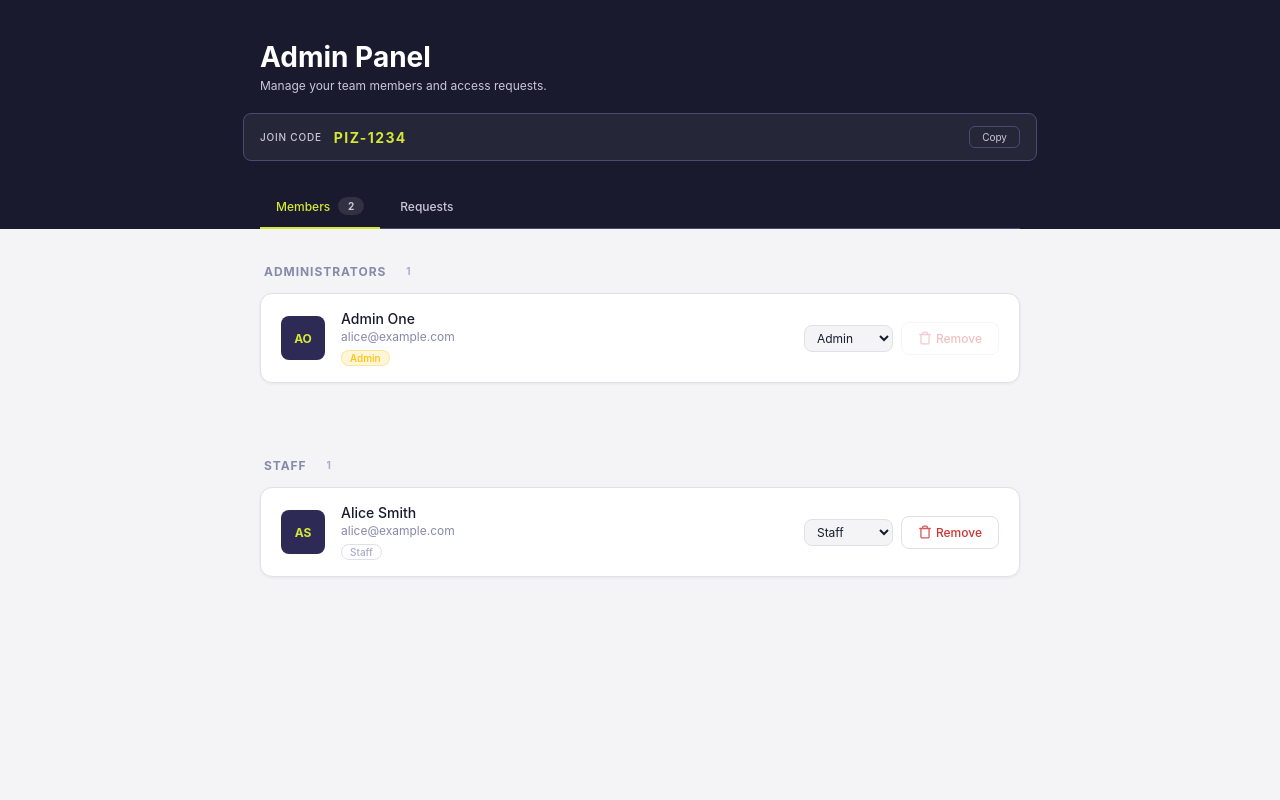
AdminPanel › members tab › removes member after confirmation dialog confirm
Click the button with class "action-btn--remove" in the row of "AS" at (950, 532), box [901,516,999,548]
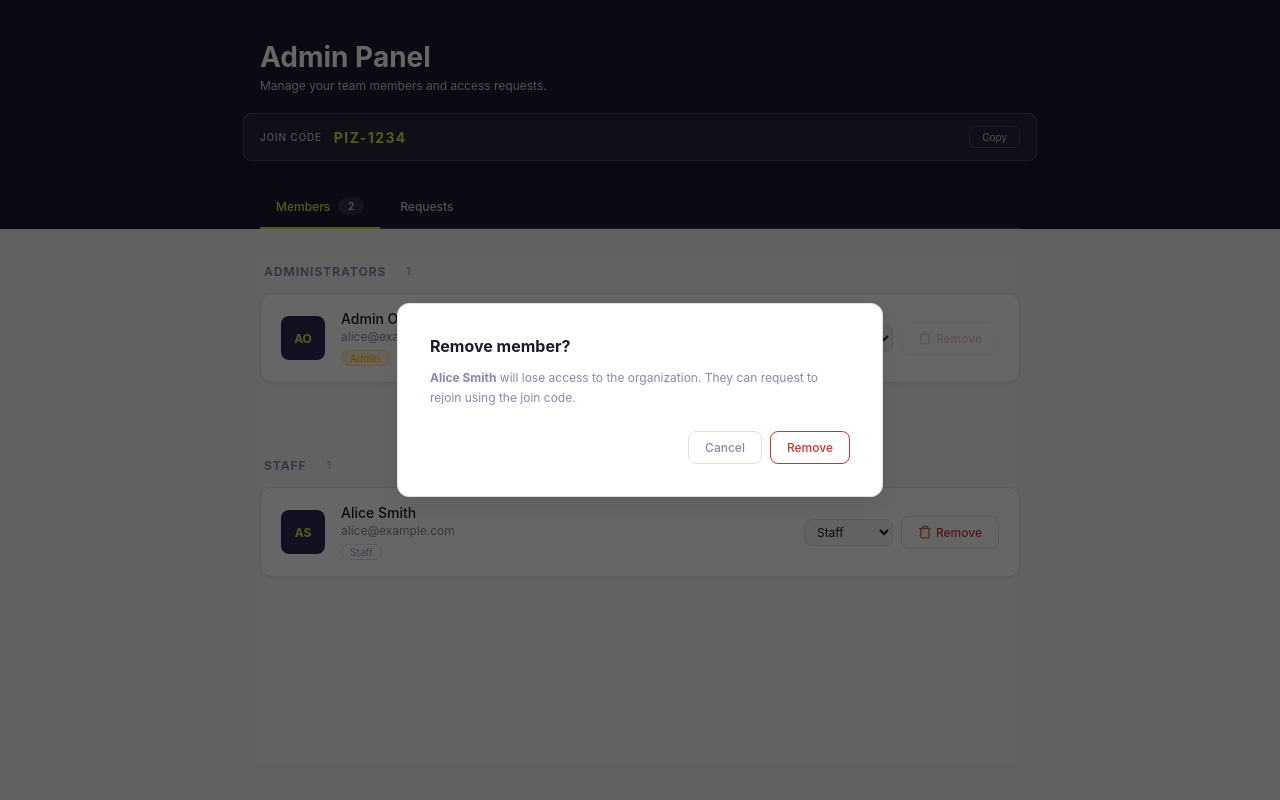
Click the button with class "action-btn--decline" at (810, 447), box [770,431,850,464]
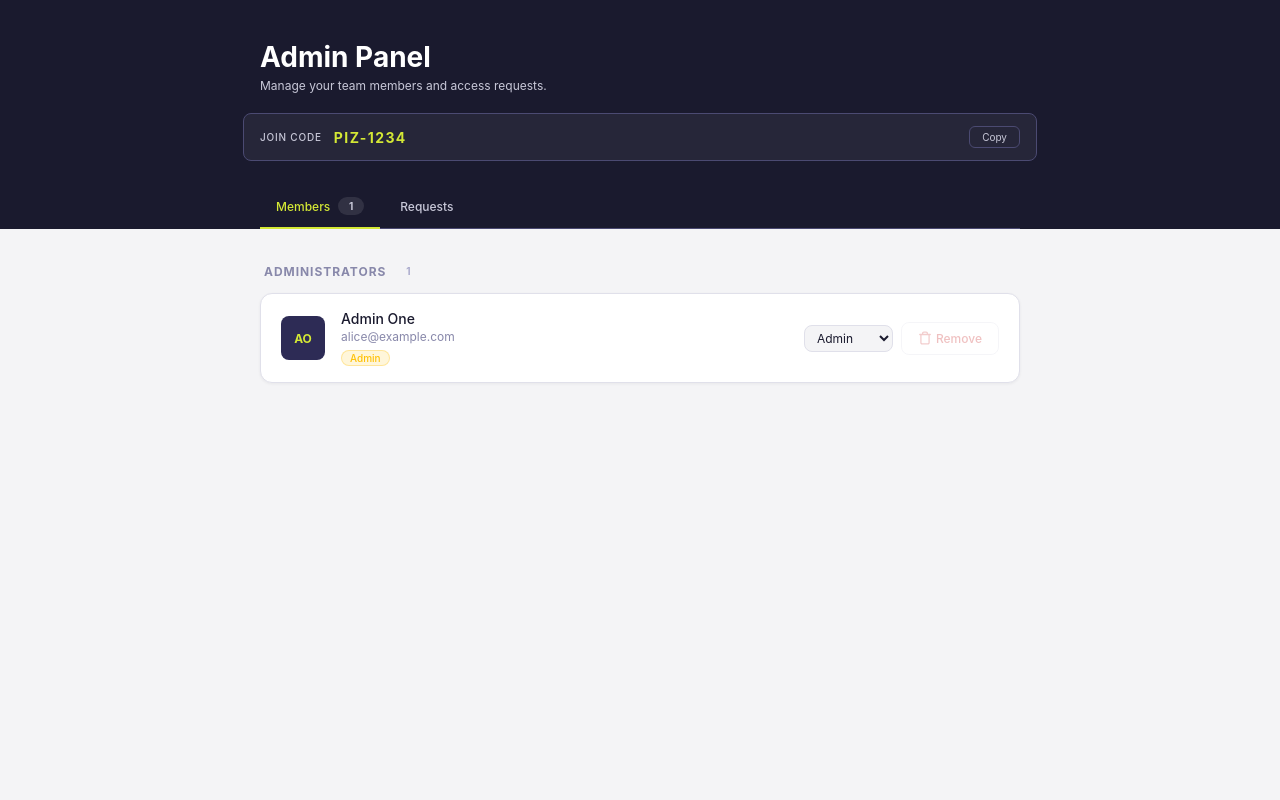
Check: the text "Alice Smith" is gone
